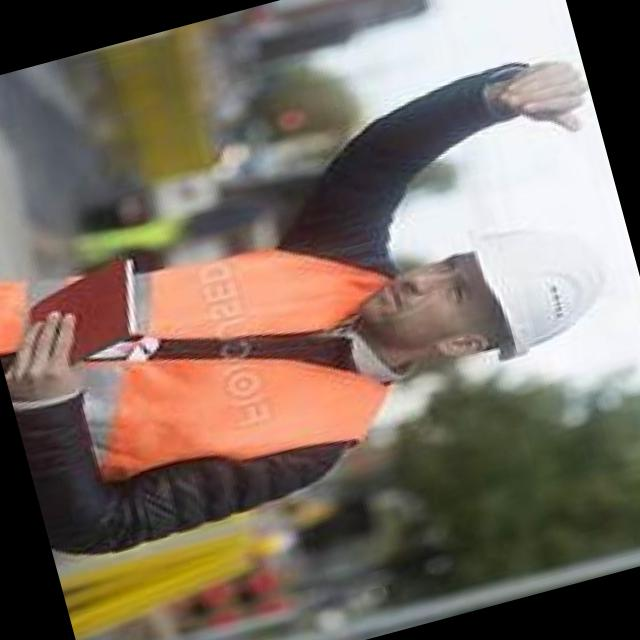not-gloved: (480, 46, 598, 154), (0, 304, 101, 416)
